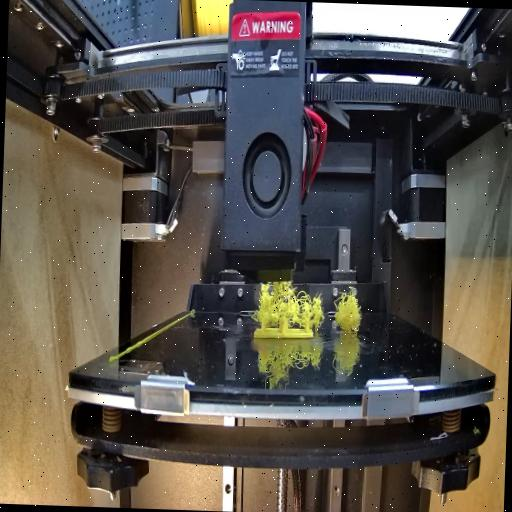spaghetti: (252, 274, 327, 327), (332, 285, 368, 334)
